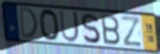B: (100, 14, 121, 46)
D: (18, 6, 39, 40)
O: (38, 8, 61, 43)
S: (80, 12, 102, 45)
U: (59, 10, 81, 44)
Z: (120, 14, 143, 48)
